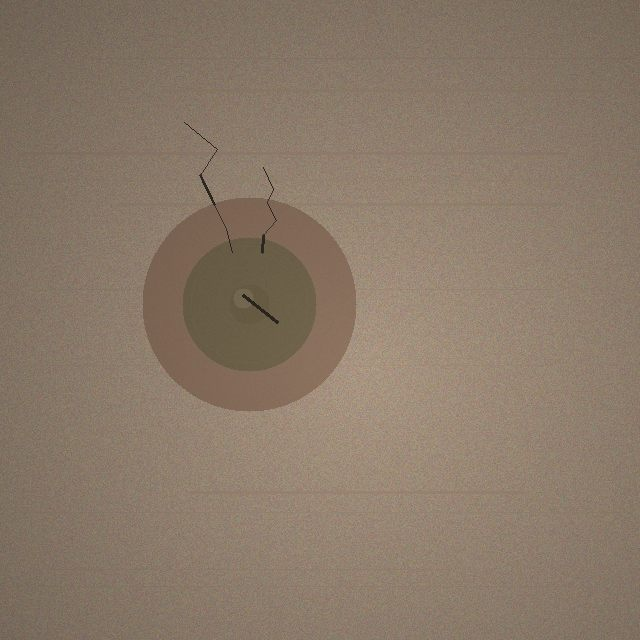crack: (142, 197, 356, 411)
